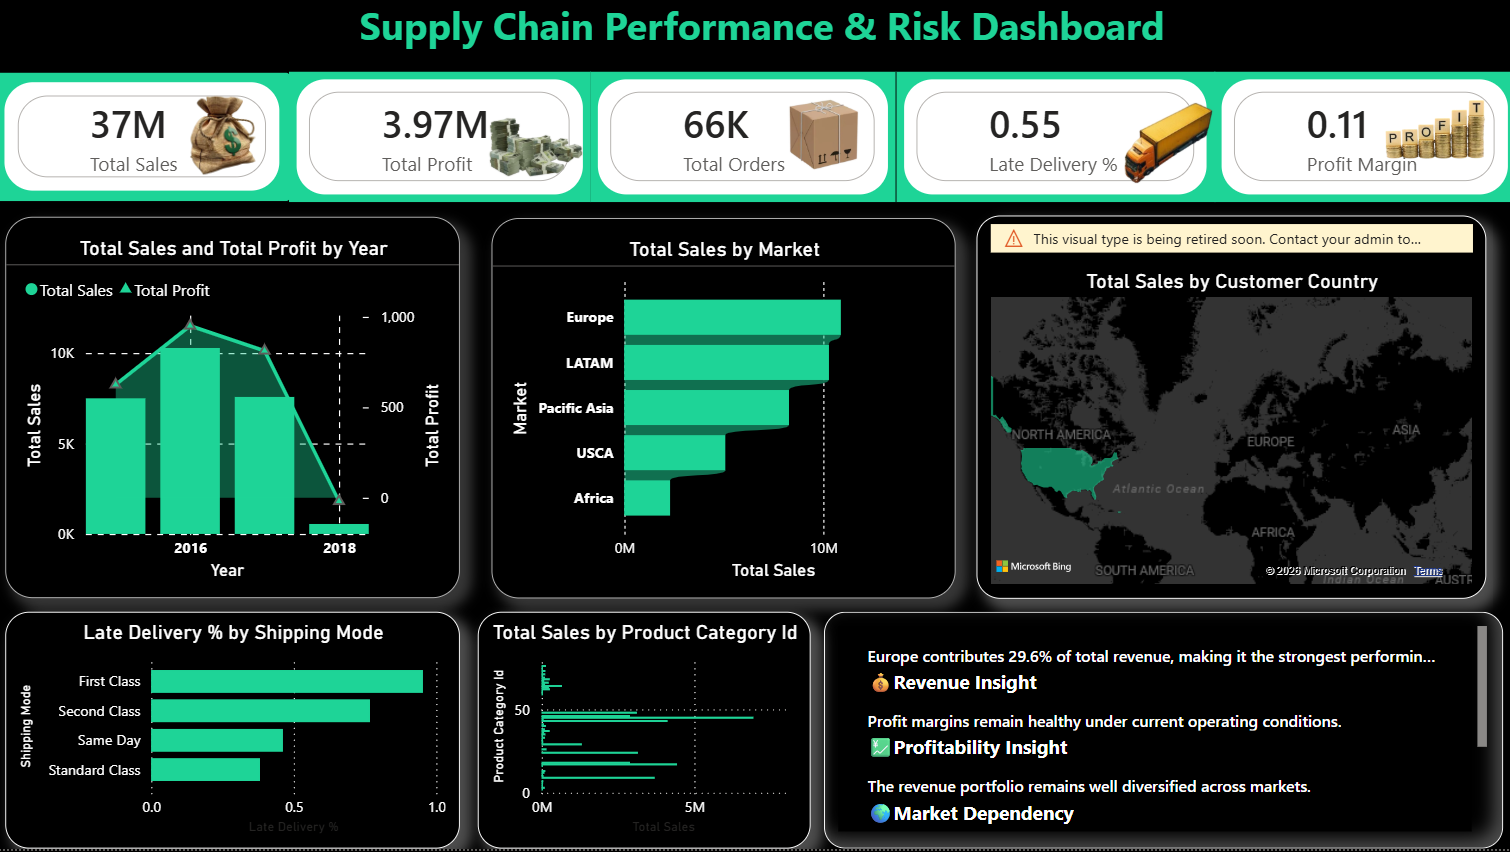

The page's visual inventory and layout, read from the dashboard file:
{"tool":"powerbi","page":{"name":"dashboard overveiw","canvas":[1280,720],"ordinal":0},"visuals":[{"type":"cardVisual","fields":{"Data":["Measures (2).Total Sales"]},"box":[0,66,249.8,109.3],"z":0},{"type":"cardVisual","fields":{"Data":["Measures (2).Profit Margin"]},"box":[1026.6,66,253.4,109.3],"z":1000},{"type":"cardVisual","fields":{"Data":["Measures (2).Late Delivery %"]},"box":[758.9,66,267.8,109.3],"z":2000},{"type":"cardVisual","fields":{"Data":["Measures (2).Total Orders"]},"box":[501.9,66,257,109.3],"z":3000},{"type":"cardVisual","fields":{"Data":["Measures (2).Total Profit"]},"box":[248.6,66,253.4,109.3],"z":4000},{"type":"image","box":[148.4,83.4,85.8,73.6],"z":5000},{"type":"image","box":[392.3,83.4,122.6,82.1],"z":6000},{"type":"image","box":[902.4,66.2,163.1,123.8],"z":7000},{"type":"image","box":[648.6,74.8,99.3,90.7],"z":8000},{"type":"image","box":[1141.5,66.2,126.3,90.7],"z":9000},{"type":"lineClusteredColumnComboChart","fields":{"Category":["Dim_Calendar.Date.Variation.Date Hierarchy.Year","Dim_Calendar.Date.Variation.Date Hierarchy.Month"],"Y":["Measures (2).Total Sales"],"Y2":["Measures (2).Total Profit"]},"box":[9.3,188.4,382.6,320.9],"z":10000},{"type":"barChart","fields":{"Y":["Measures (2).Total Sales"],"Category":["Fact_SupplyChain.Market"]},"box":[418.6,189.5,390.7,319.8],"z":11000},{"type":"clusteredBarChart","fields":{"Y":["Measures (2).Late Delivery %"],"Category":["Fact_SupplyChain.Shipping Mode"]},"box":[9.3,520.9,382.6,198.8],"z":12001},{"type":"filledMap","fields":{"Category":["Fact_SupplyChain.Customer Country"]},"box":[826.7,187.2,429.1,322.1],"z":12003},{"type":"cardVisual","fields":{"Data":["Measures (2).💰Revenue Insight","Measures (2).💹Profitability Insight","Measures (2).🌍Market Dependency","Measures (2).🚚Operations Insight","Measures (2).🧠 Recommendation"]},"box":[697.7,520.9,570.9,198.8],"z":12004},{"type":"barChart","fields":{"Category":["Fact_SupplyChain.Product Category Id"],"Y":["Measures (2).Total Sales"]},"box":[407,520.9,280.2,198.8],"z":12005},{"type":"textbox","box":[125.1,0,1041.9,65.2],"z":12006}]}

Visuals, with their boxes in screenshot pixels (x1, y1, x2, y2), scaled from the page's 1280x720 canvas onto the 1510x852 screenshot:
cardVisual - Measures (2).Total Sales: 0/78/295/207
cardVisual - Measures (2).Profit Margin: 1211/78/1509/207
cardVisual - Measures (2).Late Delivery %: 895/78/1211/207
cardVisual - Measures (2).Total Orders: 592/78/895/207
cardVisual - Measures (2).Total Profit: 293/78/592/207
image: 175/99/276/186
image: 463/99/607/196
image: 1065/78/1257/225
image: 765/89/882/196
image: 1347/78/1496/186
lineClusteredColumnComboChart - Dim_Calendar.Date.Variation.Date Hierarchy.Year x Dim_Calendar.Date.Variation.Date Hierarchy.Month: 11/223/462/603
barChart - Measures (2).Total Sales x Fact_SupplyChain.Market: 494/224/955/603
clusteredBarChart - Measures (2).Late Delivery % x Fact_SupplyChain.Shipping Mode: 11/616/462/851
filledMap - Fact_SupplyChain.Customer Country: 975/222/1481/603
cardVisual - Measures (2).💰Revenue Insight x Measures (2).💹Profitability Insight: 823/616/1497/851
barChart - Fact_SupplyChain.Product Category Id x Measures (2).Total Sales: 480/616/811/851
textbox: 148/0/1377/77
